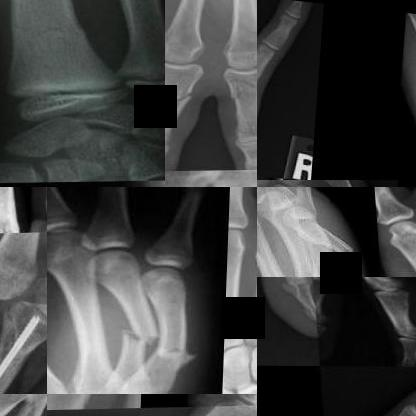fracture: (0, 309, 47, 394), (5, 15, 86, 52), (218, 65, 256, 107), (119, 319, 160, 357), (154, 337, 198, 372), (315, 234, 354, 272), (165, 77, 205, 112)
